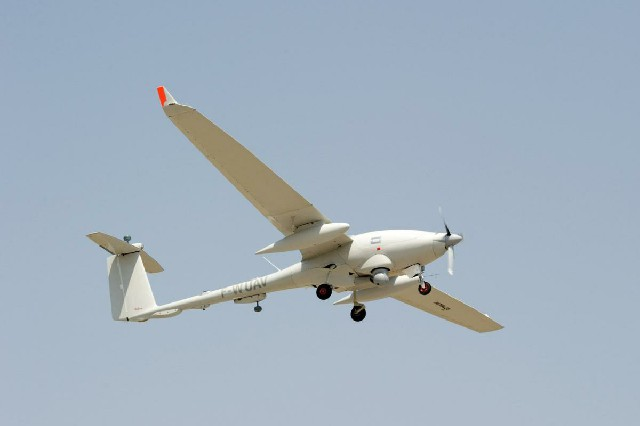maybay_khongnguoilai: (97, 84, 499, 341)
